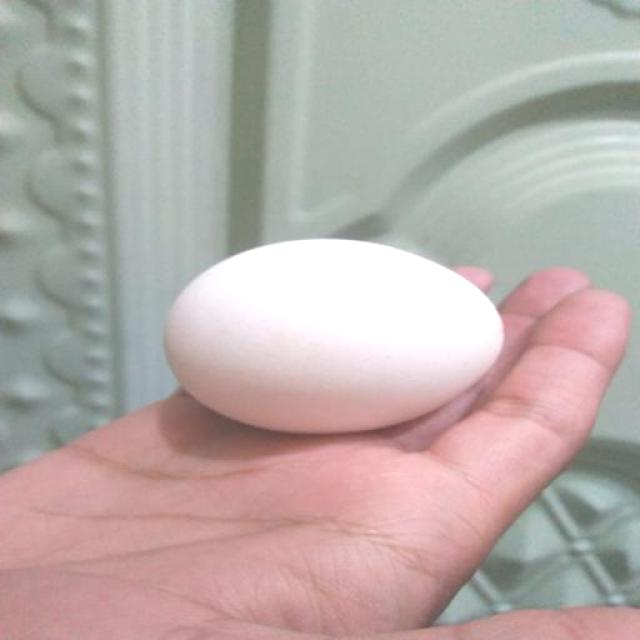telur: (168, 238, 499, 433)
